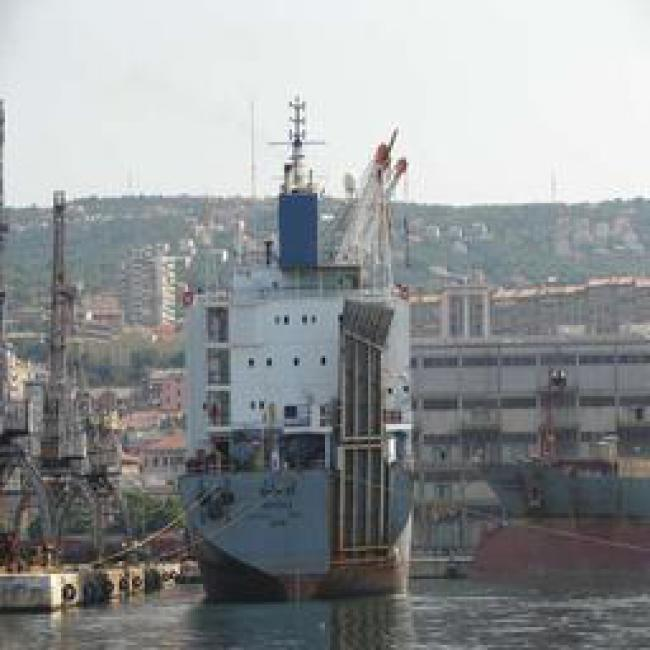Ship: (178, 248, 437, 602)
